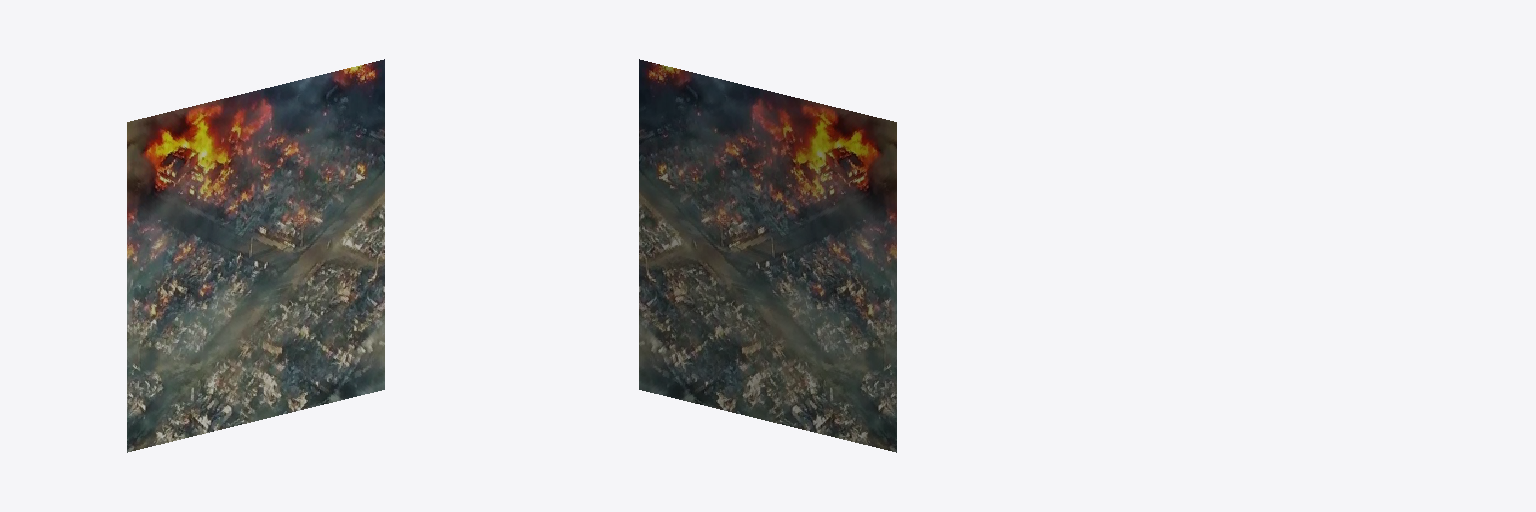
The picture shows the model from 3 angles: view 1: azimuth 30°, elevation 25°; view 2: azimuth 150°, elevation 25°; view 3: azimuth 270°, elevation 25°; orthographic projection.
Visible parts, largest first — view 1: Mesh1 Componente_1_1 Model; view 2: Mesh1 Componente_1_1 Model; view 3: none.
Part boxes in pixels (x1,y1,x2,y2): Mesh1 Componente_1_1 Model: (127,59,384,452); Mesh1 Componente_1_1 Model: (639,59,896,452).
Bounding box in the file's own units: 90 × 110 × 0.
Materials: 1 (1 with a texture image).